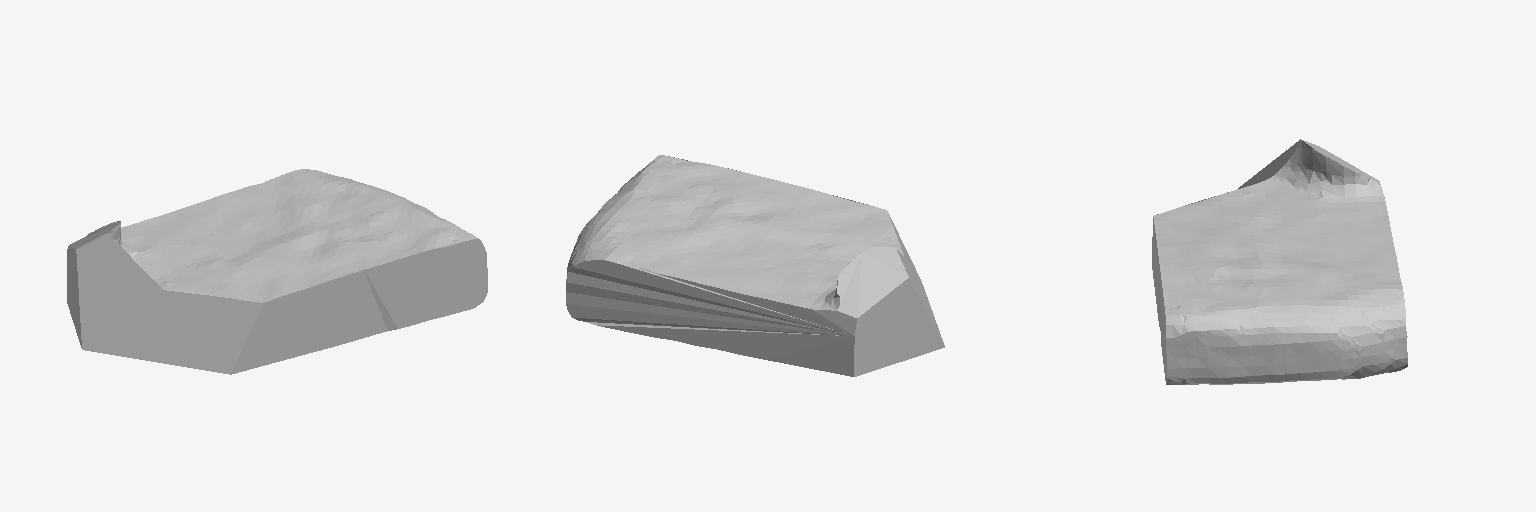
The model's file is low_cell_026.obj.
The picture shows the model from 3 angles: view 1: azimuth 30°, elevation 25°; view 2: azimuth 150°, elevation 25°; view 3: azimuth 270°, elevation 25°; orthographic projection.
Parts seen in each view (by area): view 1: low_cell.026_low_cell.025; view 2: low_cell.026_low_cell.025; view 3: low_cell.026_low_cell.025.
Part boxes in pixels (left/top/right/bottom): low_cell.026_low_cell.025: left=67, top=169, right=487, bottom=374; low_cell.026_low_cell.025: left=566, top=155, right=944, bottom=376; low_cell.026_low_cell.025: left=1152, top=139, right=1407, bottom=384.
Size of the model in its own units: 0.7224 by 0.1971 by 0.4572.